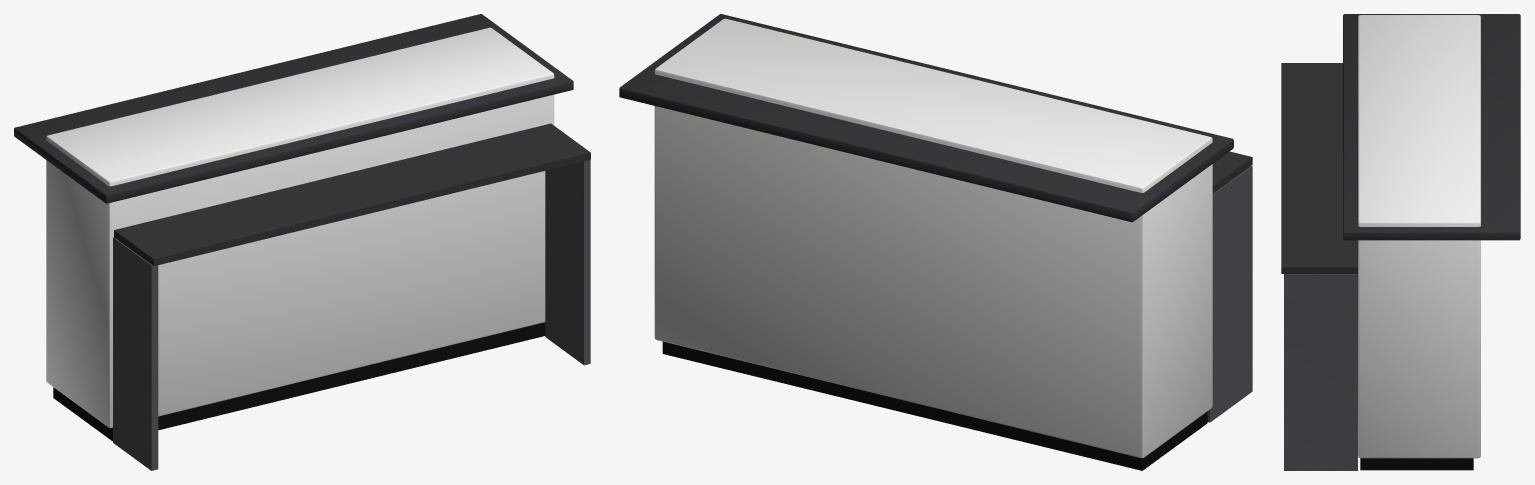
Rendered from bar_counter.gltf.
3 views of the same model, side by side, from view 1: azimuth 30°, elevation 25°; view 2: azimuth 150°, elevation 25°; view 3: azimuth 270°, elevation 25° (orthographic). The views are drawn at different scales.
Parts seen in each view (by area): view 1: bar_counter; view 2: bar_counter; view 3: bar_counter.
Boxes of the visible parts, x1,y1,x2,y2 form: bar_counter: [14, 14, 590, 470]; bar_counter: [619, 14, 1252, 470]; bar_counter: [1281, 14, 1520, 470].
Bounding box in the file's own units: 2.1 × 1.12 × 0.97.
Materials: 5 (2 with a texture image).
